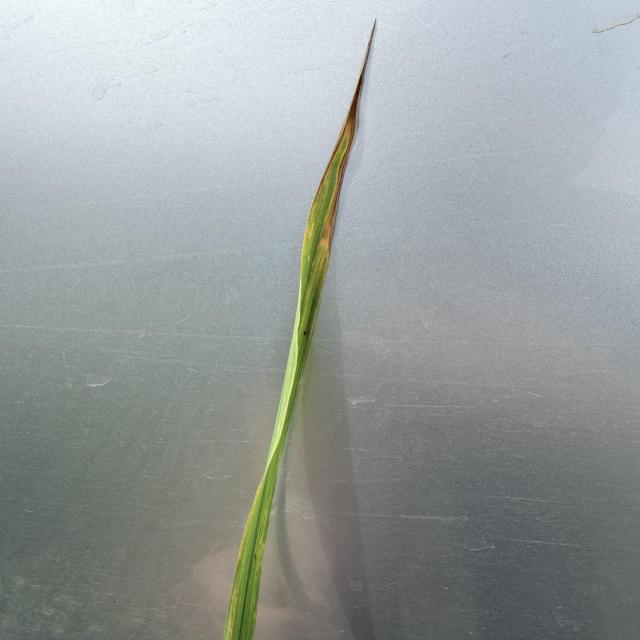Chay bia la: (304, 21, 377, 273)
